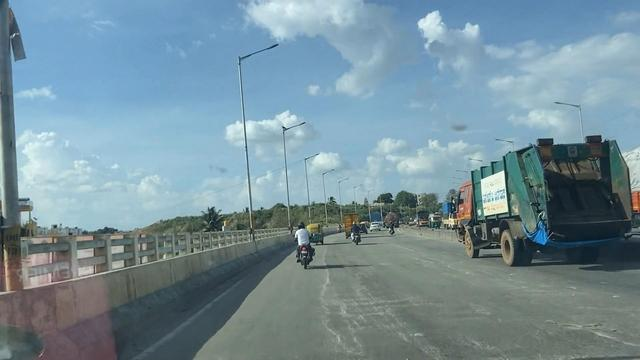HMV: (449, 129, 640, 278)
RoadDamages: (516, 299, 640, 359)
